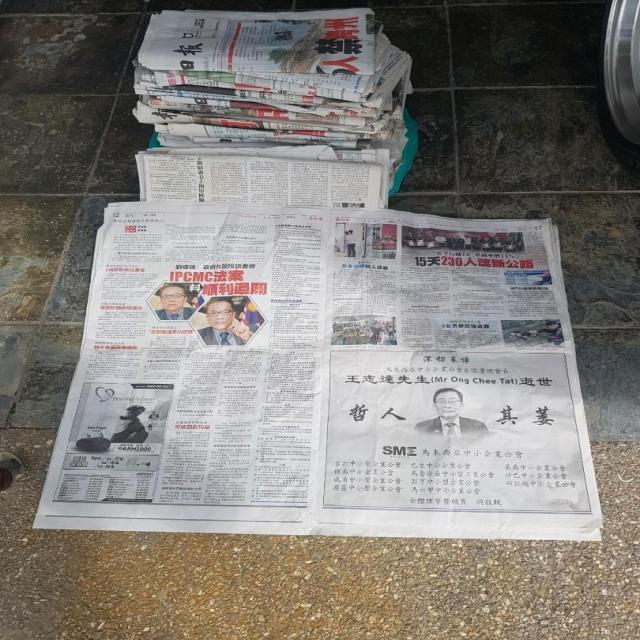newspaper: (39, 205, 598, 551), (120, 12, 419, 205)
